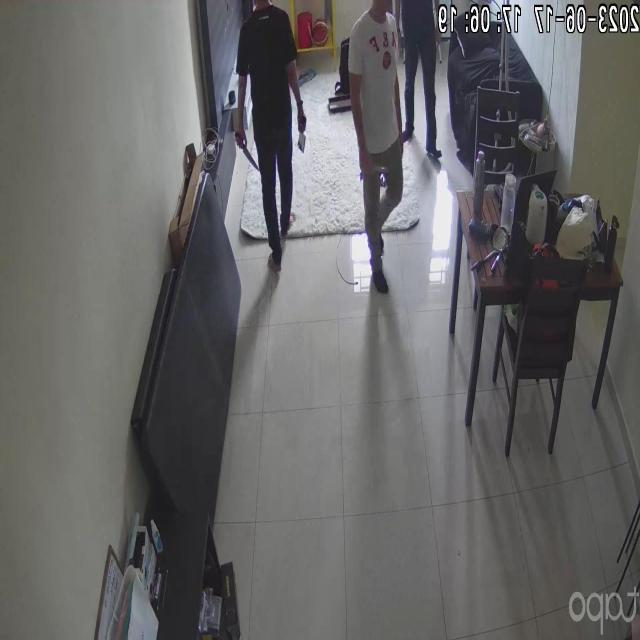Knife: (237, 135, 265, 181), (294, 124, 317, 158)
